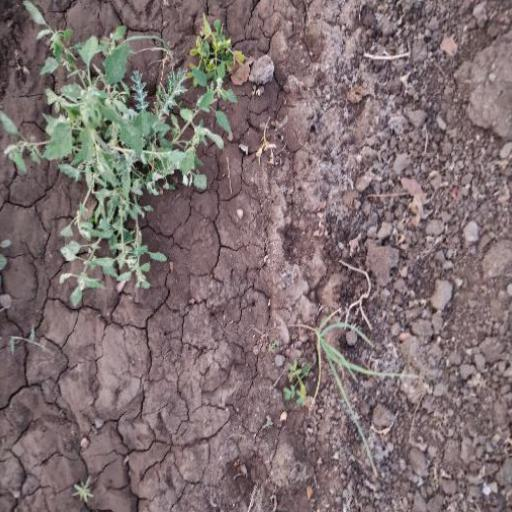weed: (26, 31, 237, 299)
